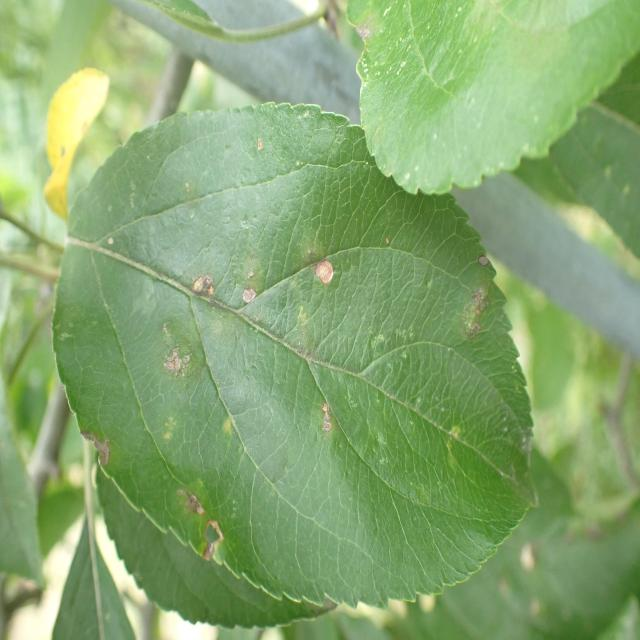frog-eye-leaf-spot: (52, 104, 538, 615), (346, 1, 640, 198)
